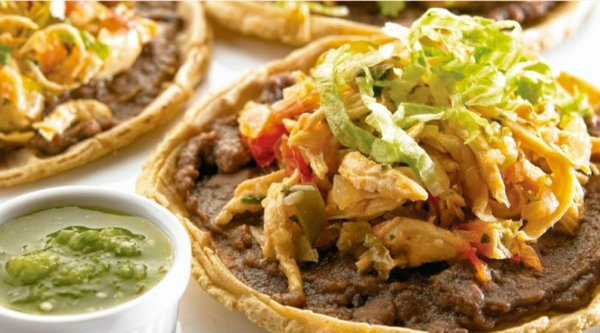soup: (156, 15, 600, 329)
sushi: (0, 1, 214, 190), (0, 186, 190, 329)
